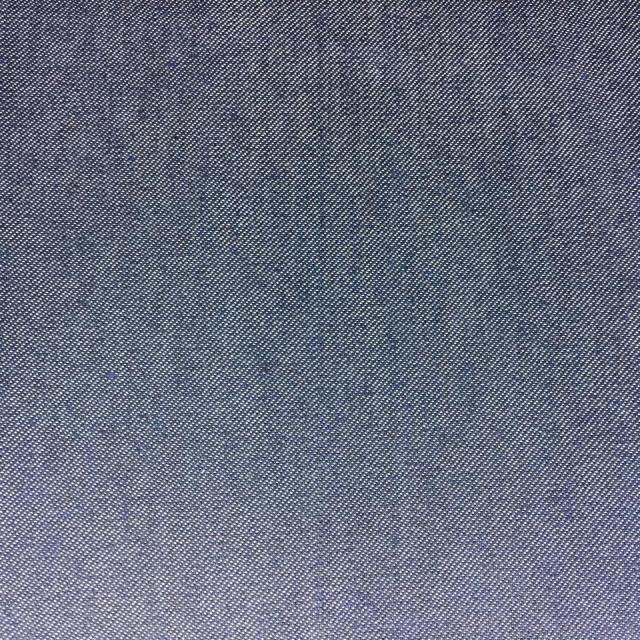Line: (310, 17, 325, 633)
